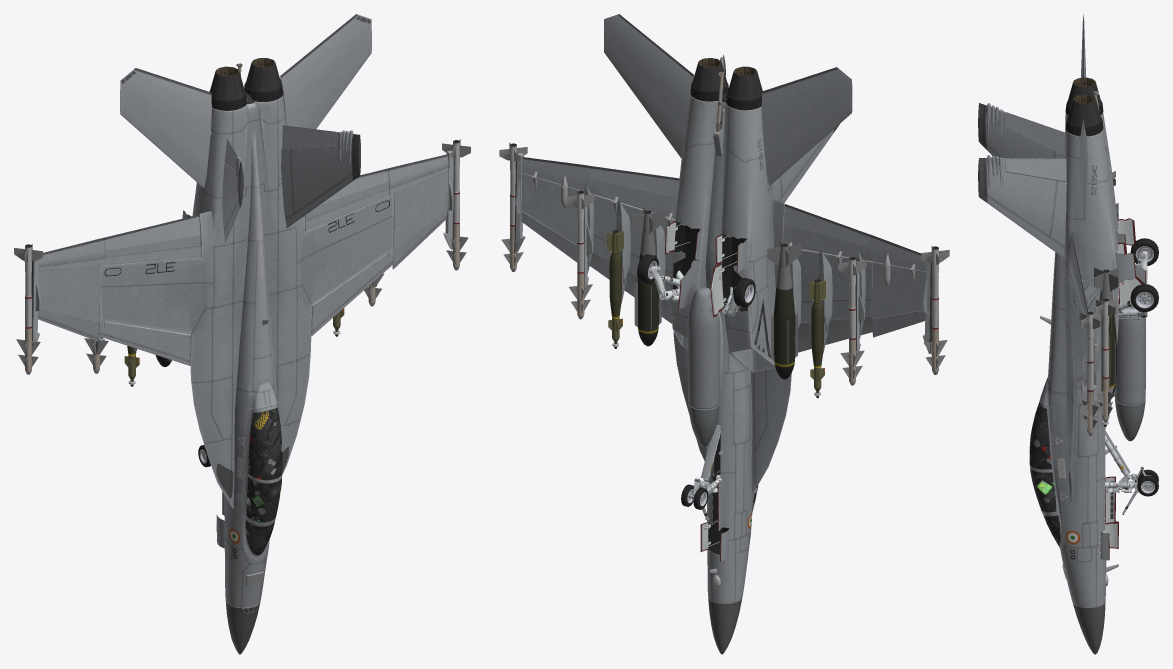
Rendered from f18-super-hornet.glb.
The picture shows the model from 3 angles, left to right: view 1: azimuth 30°, elevation 25°; view 2: azimuth 150°, elevation 25°; view 3: azimuth 270°, elevation 25°; orthographic projection. The views are drawn at different scales.
Parts seen in each view (by area): view 1: main_body_STATIC_outer_body_mat_0, main_body_STATIC_outer_parts_mat_0, back_right_tail_flap_outer_parts_mat_0, back_left_tail_flap_outer_parts_mat_0, left_inner_flap_outer_parts_mat_0 (×2), cockpit_door_glass_mat_0, left_outer_flap_outer_parts_mat_0 (×2), right_inner_stab_outer_parts_mat_0, left_inner_stab_outer_parts_mat_0, left_rudder_outer_parts_mat_0, right_exhaust_outer_parts_mat_0, left_exhaust_outer_parts_mat_0 (+3 smaller); view 2: main_body_STATIC_outer_body_mat_0, main_body_STATIC_outer_parts_mat_0, back_right_tail_flap_outer_parts_mat_0, back_left_tail_flap_outer_parts_mat_0, left_inner_flap_outer_parts_mat_0 (×2), left_outer_flap_outer_parts_mat_0 (×2), front_wheel_outer_parts_mat_0, back_right_wheel_doors_outer_parts_mat_0, back_left_wheel_doors_outer_parts_mat_0, back_left_wheel_outer_parts_mat_0, right_inner_stab_outer_parts_mat_0, right_exhaust_outer_parts_mat_0 (+6 smaller); view 3: main_body_STATIC_outer_body_mat_0, main_body_STATIC_outer_parts_mat_0, left_rudder_outer_parts_mat_0 (×2), cockpit_door_glass_mat_0, front_wheel_outer_parts_mat_0, back_left_wheel_outer_parts_mat_0, back_left_wheel_doors_outer_parts_mat_0, front_wheel_doors_outer_parts_mat_0, left_exhaust_outer_parts_mat_0, cockpit_door_outer_parts_mat_0, back_right_wheel_outer_parts_mat_0, back_left_tail_flap_outer_parts_mat_0 (+4 smaller).
Boxes of the visible parts, <box> form: main_body_STATIC_outer_body_mat_0: <box>99,95,393,654</box>; main_body_STATIC_outer_parts_mat_0: <box>14,82,470,585</box>; back_right_tail_flap_outer_parts_mat_0: <box>120,68,211,188</box>; back_left_tail_flap_outer_parts_mat_0: <box>280,14,371,129</box>; left_inner_flap_outer_parts_mat_0 (×2): <box>104,168,388,257</box>; cockpit_door_glass_mat_0: <box>246,407,282,522</box>; left_outer_flap_outer_parts_mat_0 (×2): <box>39,154,448,266</box>; right_inner_stab_outer_parts_mat_0: <box>99,321,190,365</box>; left_inner_stab_outer_parts_mat_0: <box>311,252,393,335</box>; left_rudder_outer_parts_mat_0: <box>282,125,336,149</box>; right_exhaust_outer_parts_mat_0: <box>209,66,245,100</box>; left_exhaust_outer_parts_mat_0: <box>245,58,281,91</box>; main_body_STATIC_outer_body_mat_0: <box>590,95,872,654</box>; main_body_STATIC_outer_parts_mat_0: <box>499,55,949,587</box>; back_right_tail_flap_outer_parts_mat_0: <box>761,67,852,185</box>; back_left_tail_flap_outer_parts_mat_0: <box>604,14,693,158</box>; left_inner_flap_outer_parts_mat_0 (×2): <box>587,165,868,260</box>; left_outer_flap_outer_parts_mat_0 (×2): <box>522,157,925,271</box>; front_wheel_outer_parts_mat_0: <box>681,424,721,520</box>; back_right_wheel_doors_outer_parts_mat_0: <box>710,234,747,316</box>; back_left_wheel_doors_outer_parts_mat_0: <box>665,221,701,308</box>; back_left_wheel_outer_parts_mat_0: <box>637,254,683,301</box>; right_inner_stab_outer_parts_mat_0: <box>798,317,872,352</box>; right_exhaust_outer_parts_mat_0: <box>727,66,762,100</box>; main_body_STATIC_outer_body_mat_0: <box>1040,112,1119,654</box>; main_body_STATIC_outer_parts_mat_0: <box>978,101,1145,586</box>; left_rudder_outer_parts_mat_0 (×2): <box>1004,112,1066,181</box>; cockpit_door_glass_mat_0: <box>1029,401,1056,512</box>; front_wheel_outer_parts_mat_0: <box>1105,430,1158,514</box>; back_left_wheel_outer_parts_mat_0: <box>1118,284,1158,319</box>; back_left_wheel_doors_outer_parts_mat_0: <box>1115,242,1144,309</box>; front_wheel_doors_outer_parts_mat_0: <box>1100,476,1118,560</box>; left_exhaust_outer_parts_mat_0: <box>1067,94,1101,126</box>; cockpit_door_outer_parts_mat_0: <box>1029,399,1061,514</box>; back_right_wheel_outer_parts_mat_0: <box>1130,238,1158,284</box>; back_left_tail_flap_outer_parts_mat_0: <box>1079,117,1087,215</box>.
Size of the model in its own units: 112 by 148 by 41.06.
Materials: 5 (4 with a texture image).
